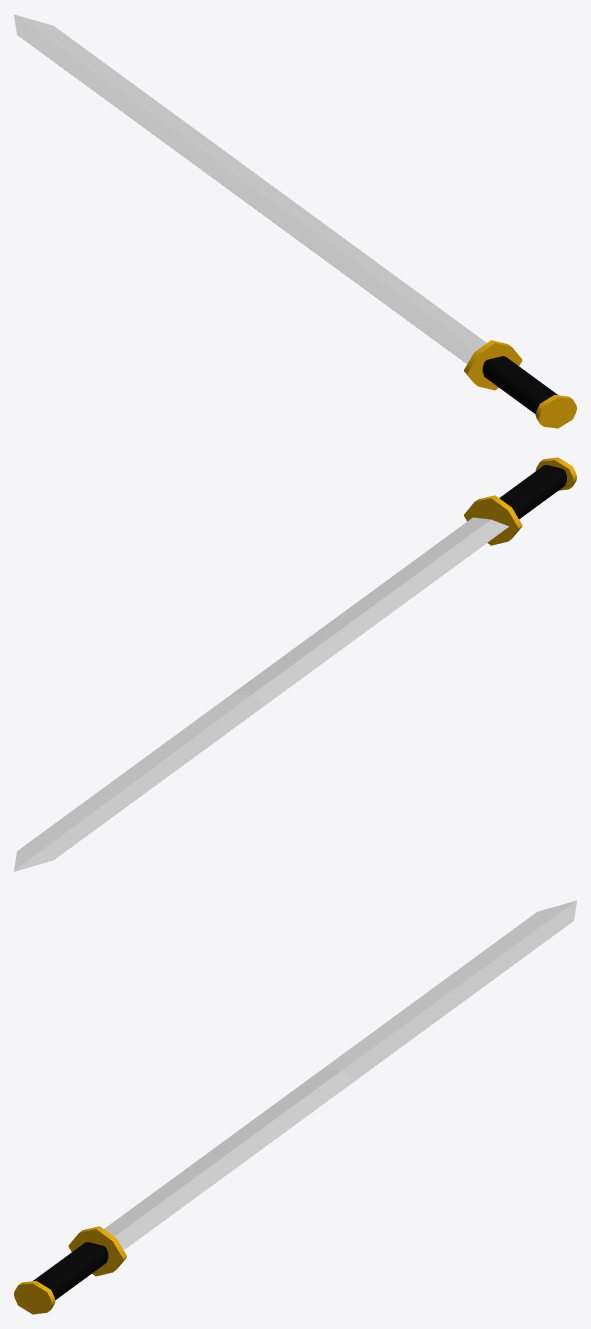
The model's file is enemySword.fbx.
3 views of the same model, one above another, from view 1: azimuth 30°, elevation 25°; view 2: azimuth 150°, elevation 25°; view 3: azimuth 330°, elevation 25° (orthographic).
Visible parts, largest first — view 1: Sword; view 2: Sword; view 3: Sword.
Boxes of the visible parts, x1,y1,x2,y2 form: Sword: [14, 14, 576, 428]; Sword: [14, 457, 576, 871]; Sword: [14, 900, 576, 1314].
Size of the model in its own units: 5.2 by 4.35 by 90.2.
